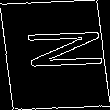N_E: (7, 33, 103, 77)
